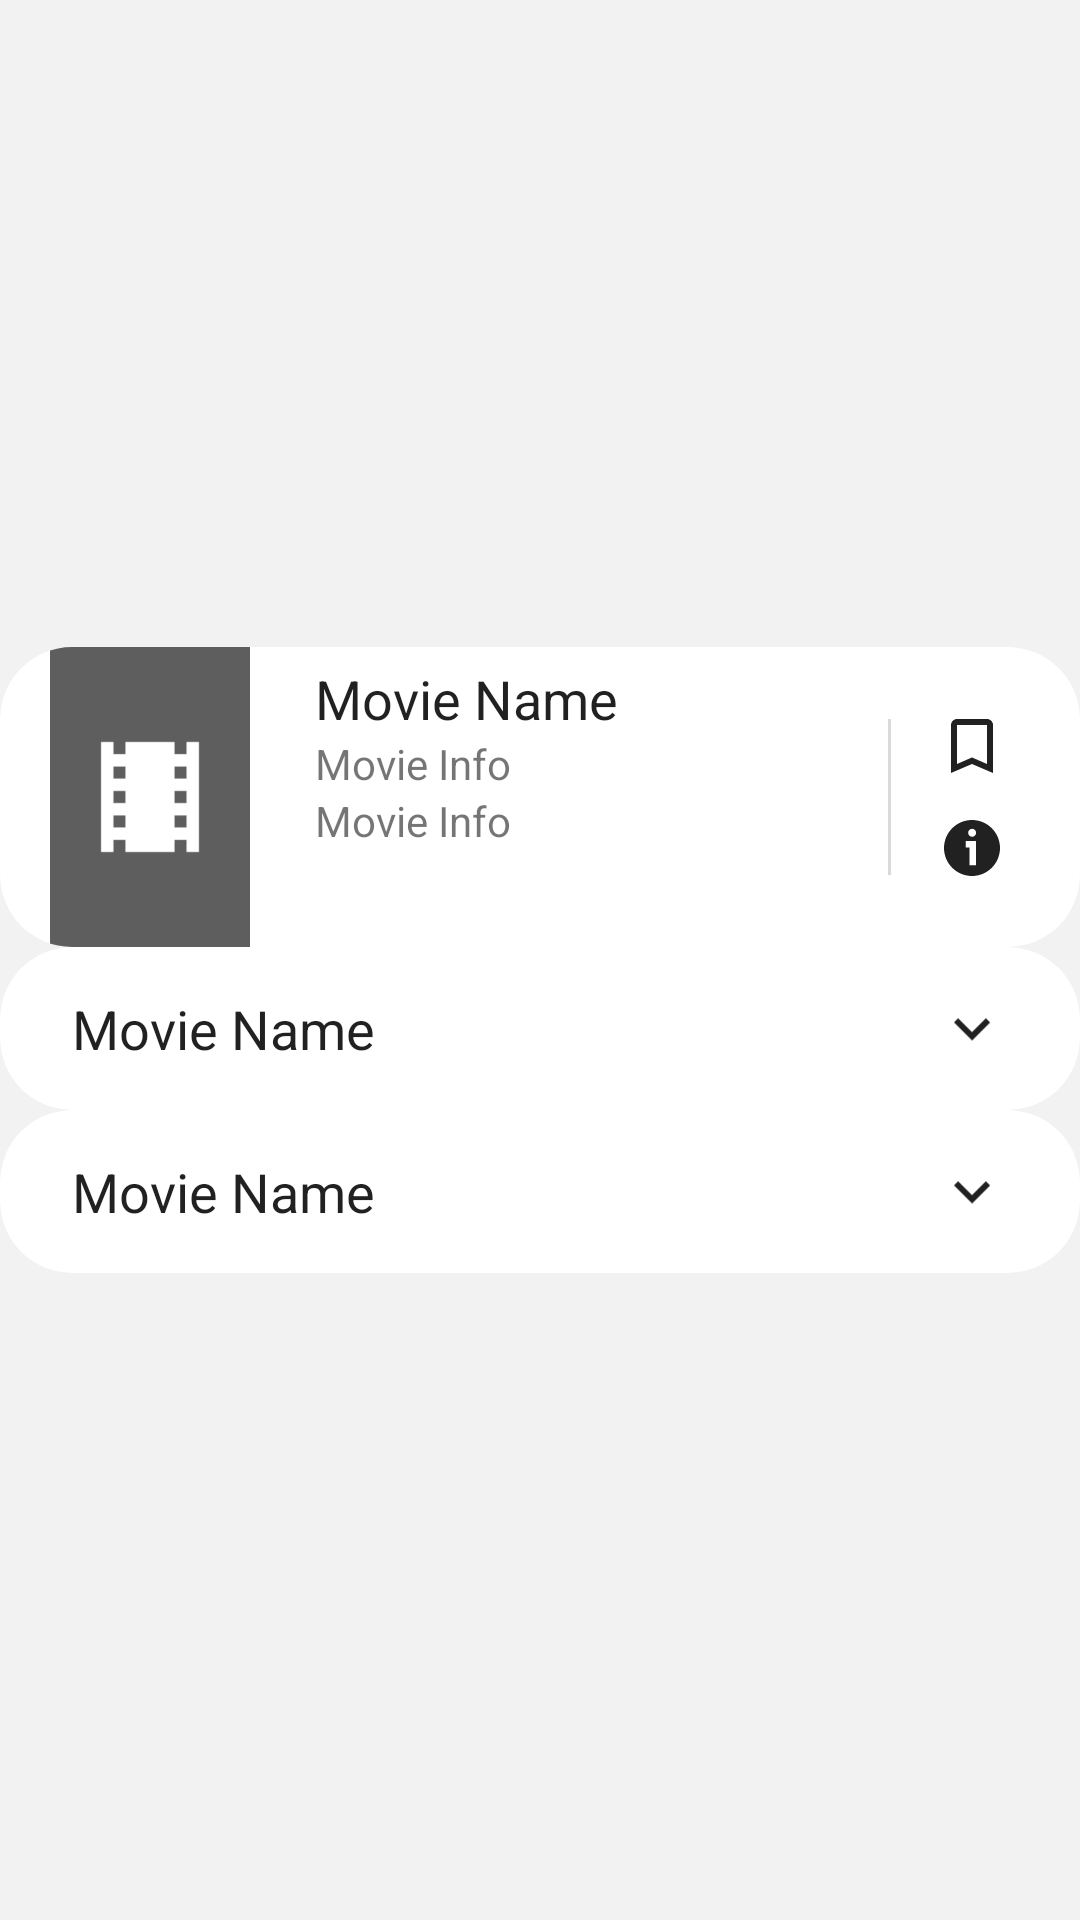

Icons on this 1080*1920 Android screen, each with the point to tap as point (x, y):
arrow down: point (972, 1029), point (972, 1192)
bookmark: point (972, 746)
